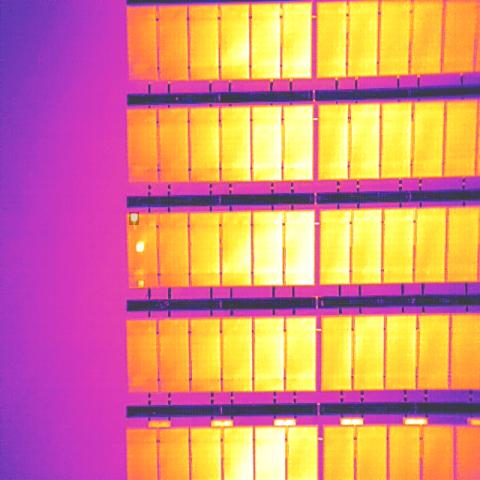fault: (129, 212, 139, 225), (135, 240, 145, 253), (136, 279, 146, 289)
